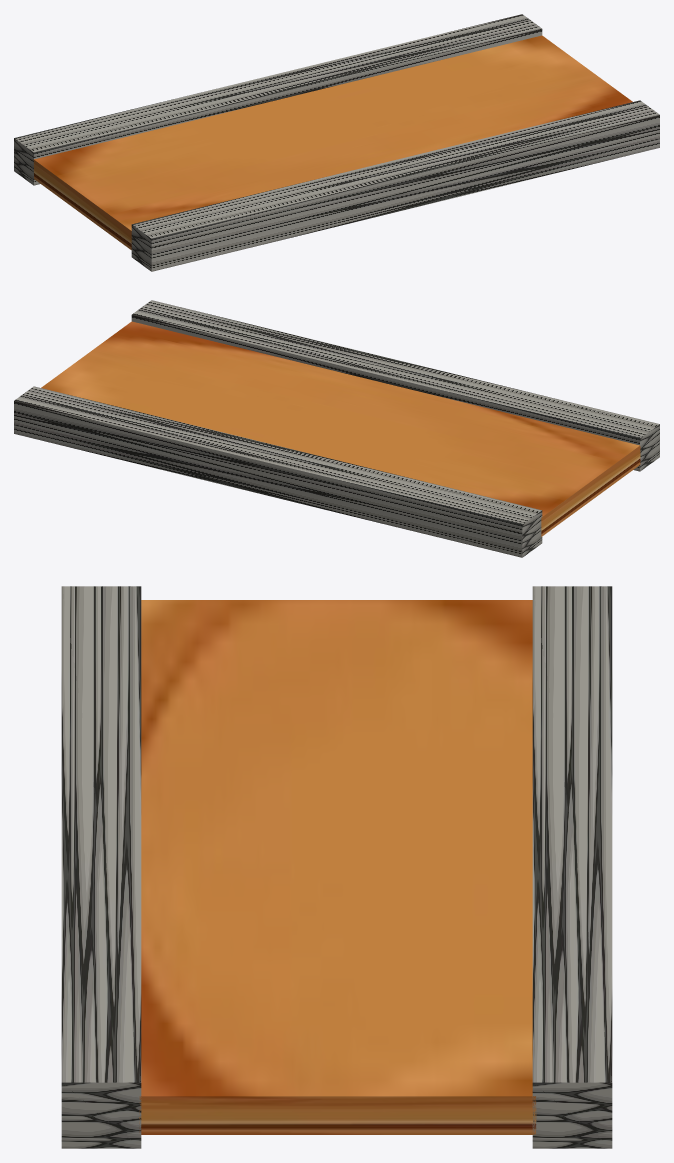
Rendered from puente.fbx.
The picture shows the model from 3 angles, top to bottom: view 1: azimuth 30°, elevation 25°; view 2: azimuth 150°, elevation 25°; view 3: azimuth 270°, elevation 25°; orthographic projection. The views are drawn at different scales.
Visible parts, largest first — view 1: Puente; view 2: Puente; view 3: Puente.
Boxes of the visible parts, box(x1,y1,x2,y2) form: Puente: box(14, 14, 659, 271); Puente: box(14, 300, 659, 557); Puente: box(61, 586, 612, 1148).
Bounding box in the file's own units: 723 × 44.86 × 339.
